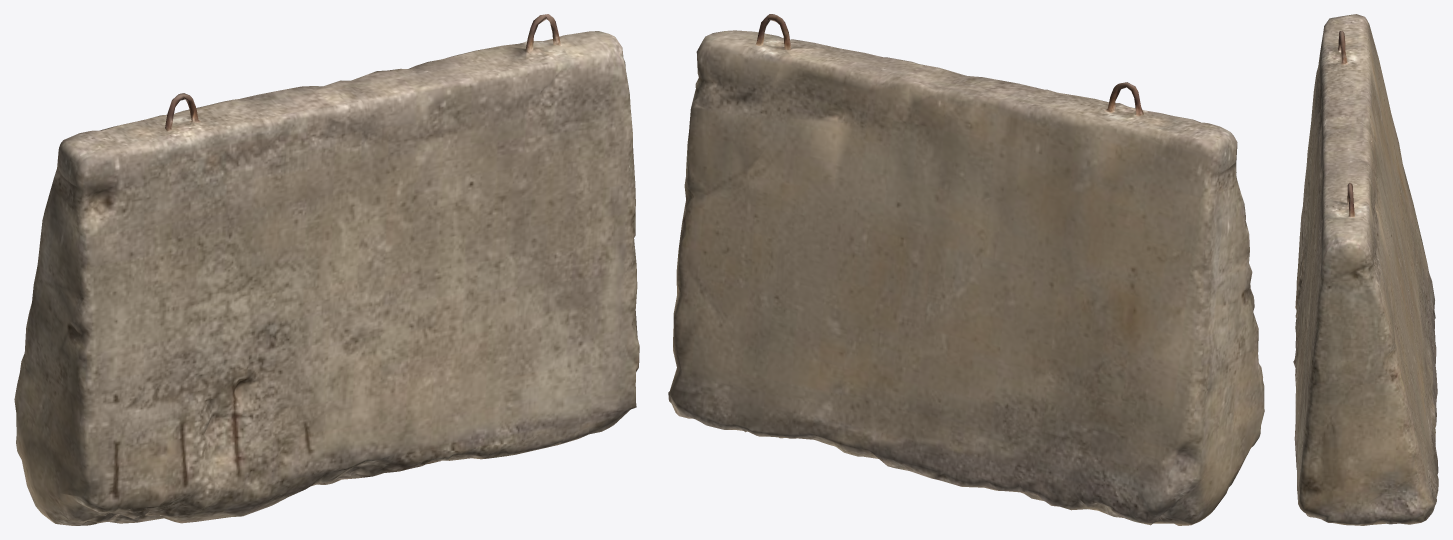
The model's file is road_barrier.glb.
3 views of the same model, side by side, from view 1: azimuth 30°, elevation 25°; view 2: azimuth 150°, elevation 25°; view 3: azimuth 270°, elevation 25° (orthographic). The views are drawn at different scales.
Size of the model in its own units: 1.56 by 1.11 by 0.4421.
1 material, 1 textured.
